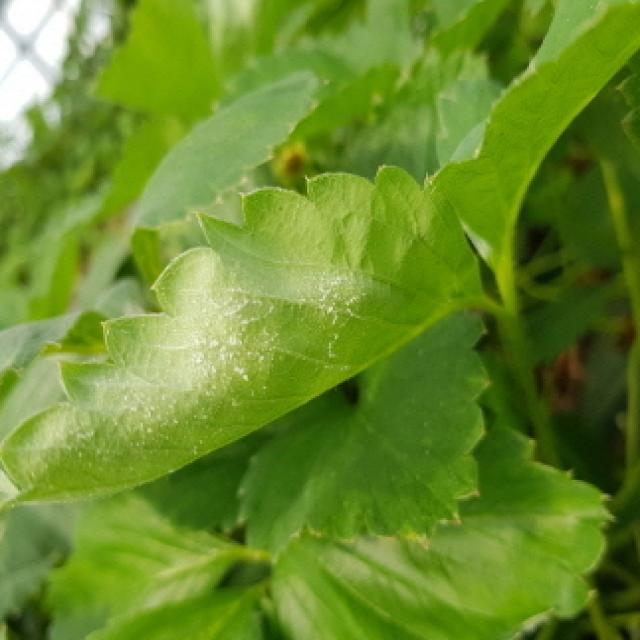Powdery Mildew Leaf: (0, 162, 487, 517)
